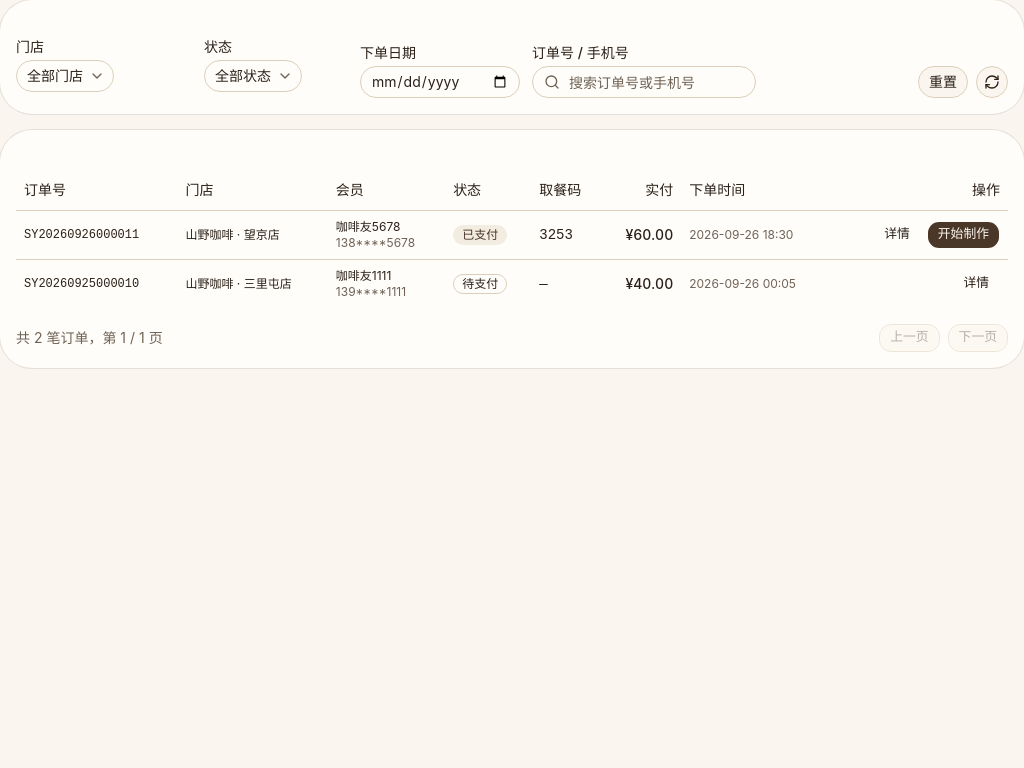
Test: OrdersPage › 订单详情弹窗展示明细、金额与进度
The image size is (1024, 768).
Expected: the text "SY20260926000011" is shown, 16,210 -> 178,259
Click the button "详情" in the row of "SY20260926000011" at (897,234), box 873,220 -> 921,248
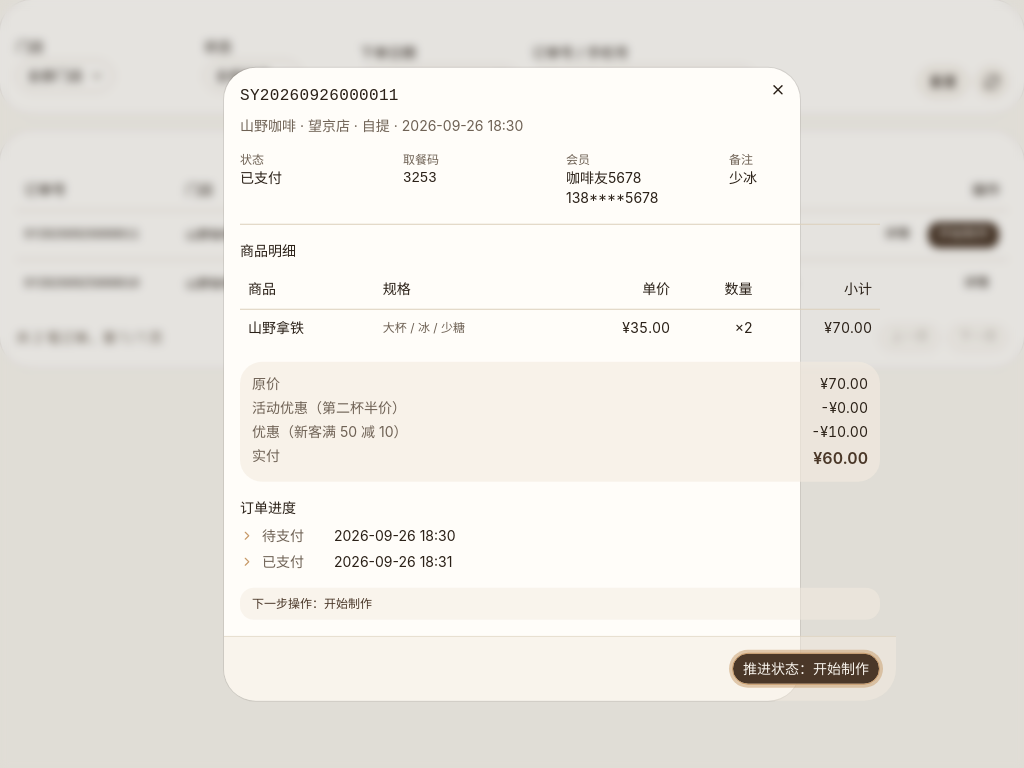
Expected: the text "山野拿铁" is shown, 240,309 -> 375,345
Expected: the text "大杯 / 冰 / 少糖" is shown, 375,309 -> 559,345
Expected: the text "-¥10.00" is shown, 811,421 -> 868,441
